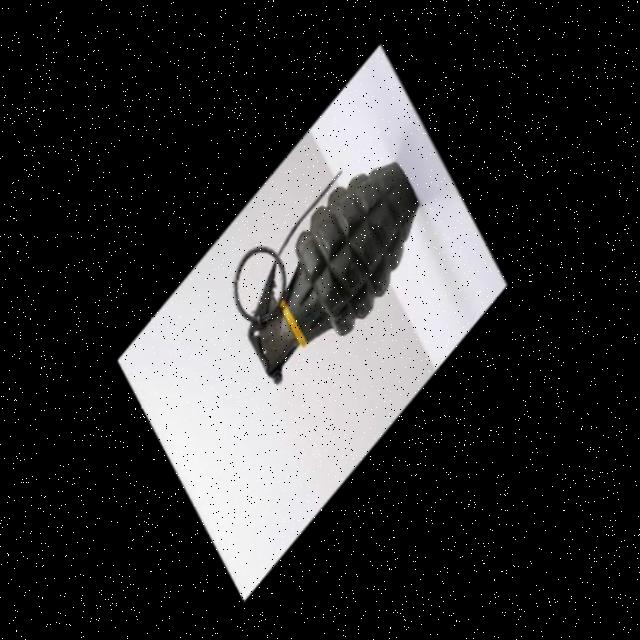grenade: (175, 107, 471, 440)
